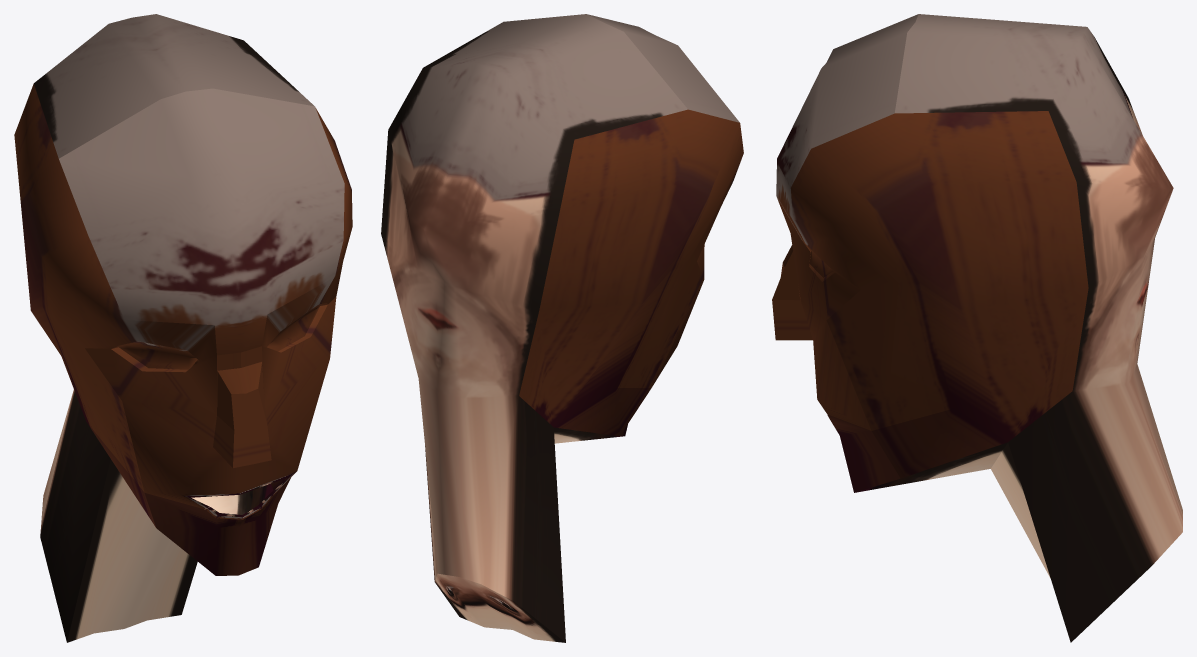
The model's file is animationanimation.fbx.
3 renders of one model, left to right at view 1: azimuth 30°, elevation 25°; view 2: azimuth 150°, elevation 25°; view 3: azimuth 270°, elevation 25°, orthographic. The views are drawn at different scales.
Visible parts, largest first — view 1: sg_face; view 2: sg_face; view 3: sg_face.
Boxes of the visible parts, <box> form: sg_face: <box>14,14,352,642</box>; sg_face: <box>381,14,743,642</box>; sg_face: <box>772,14,1182,642</box>.
Size of the model in its own units: 2.23 by 4.44 by 2.8.
Materials: 1 (1 with a texture image).
